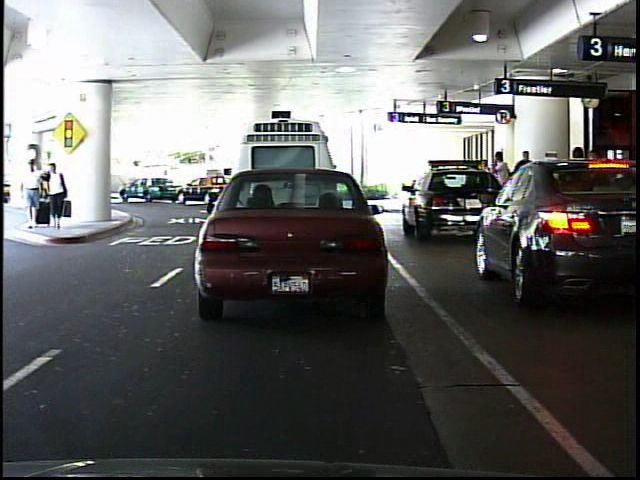person: (486, 146, 517, 224), (42, 159, 69, 231), (20, 155, 43, 229), (324, 158, 345, 200), (158, 164, 176, 197)
